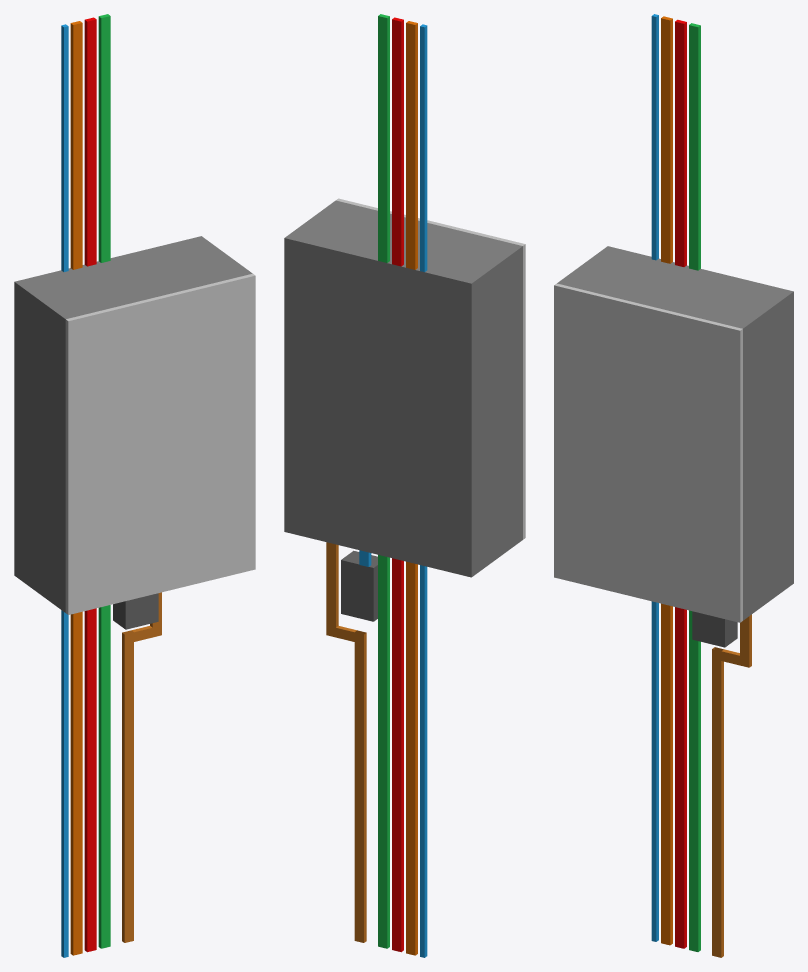
File: ElectricBox.fbx
3 views of the same model, side by side, from view 1: azimuth 30°, elevation 25°; view 2: azimuth 150°, elevation 25°; view 3: azimuth 330°, elevation 25° (orthographic).
Visible parts, largest first — view 1: ElectricBox; view 2: ElectricBox; view 3: ElectricBox.
Boxes of the visible parts, x1,y1,x2,y2 form: ElectricBox: (14, 14, 255, 957); ElectricBox: (284, 14, 525, 957); ElectricBox: (554, 14, 793, 957).
Bounding box in the file's own units: 800 × 3800 × 400.
